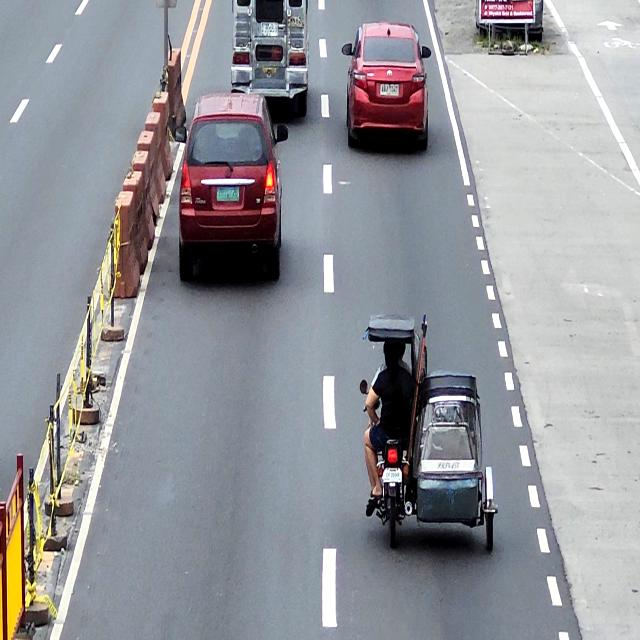Car: (175, 94, 288, 284), (342, 22, 432, 153)
Jeep: (230, 0, 309, 123)
License-Plate: (216, 186, 240, 202), (382, 466, 402, 484), (380, 83, 399, 96)
Tricycle: (358, 315, 497, 555)
